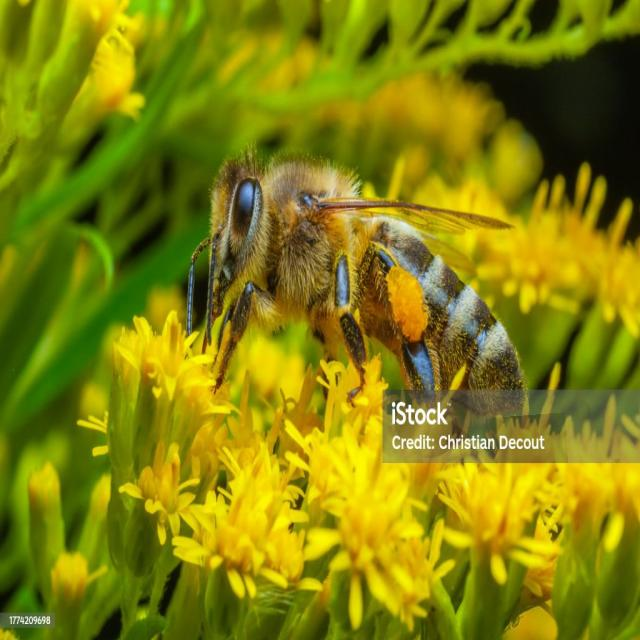bees: (186, 141, 530, 412)
